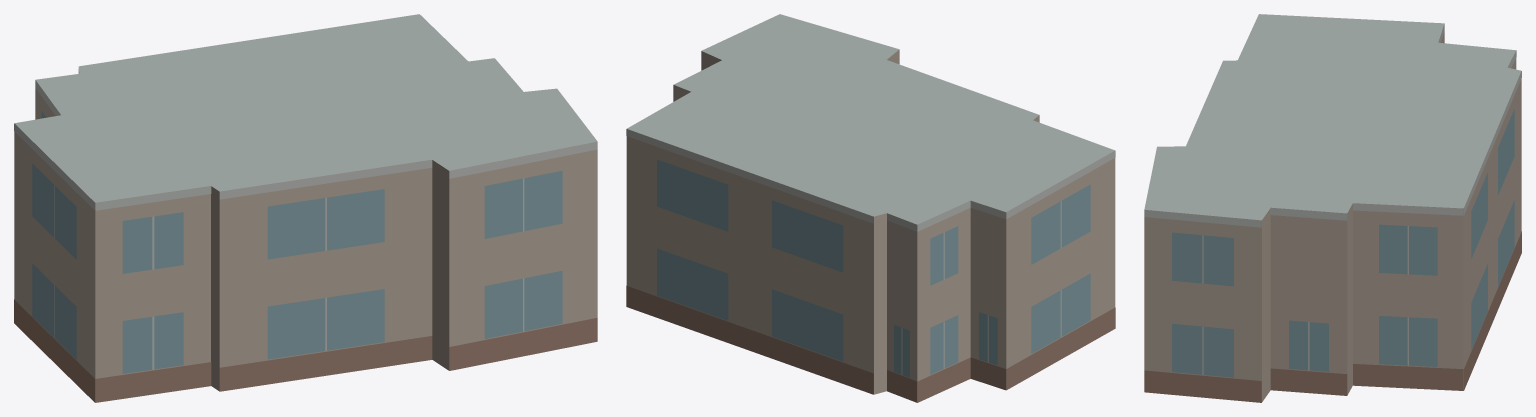
The model's file is survey-upis-32921210.glb.
3 views of the same model, side by side, from view 1: azimuth 30°, elevation 25°; view 2: azimuth 150°, elevation 25°; view 3: azimuth 270°, elevation 25° (orthographic). The views are drawn at different scales.
Parts seen in each view (by area): view 1: survey-upis-32921210.tmp; view 2: survey-upis-32921210.tmp; view 3: survey-upis-32921210.tmp.
Part boxes in pixels (left/top/right/bottom): survey-upis-32921210.tmp: left=14, top=14, right=597, bottom=402; survey-upis-32921210.tmp: left=626, top=14, right=1115, bottom=402; survey-upis-32921210.tmp: left=1144, top=14, right=1521, bottom=402.
Bounding box in the file's own units: 14.8 × 6.1 × 11.44.
